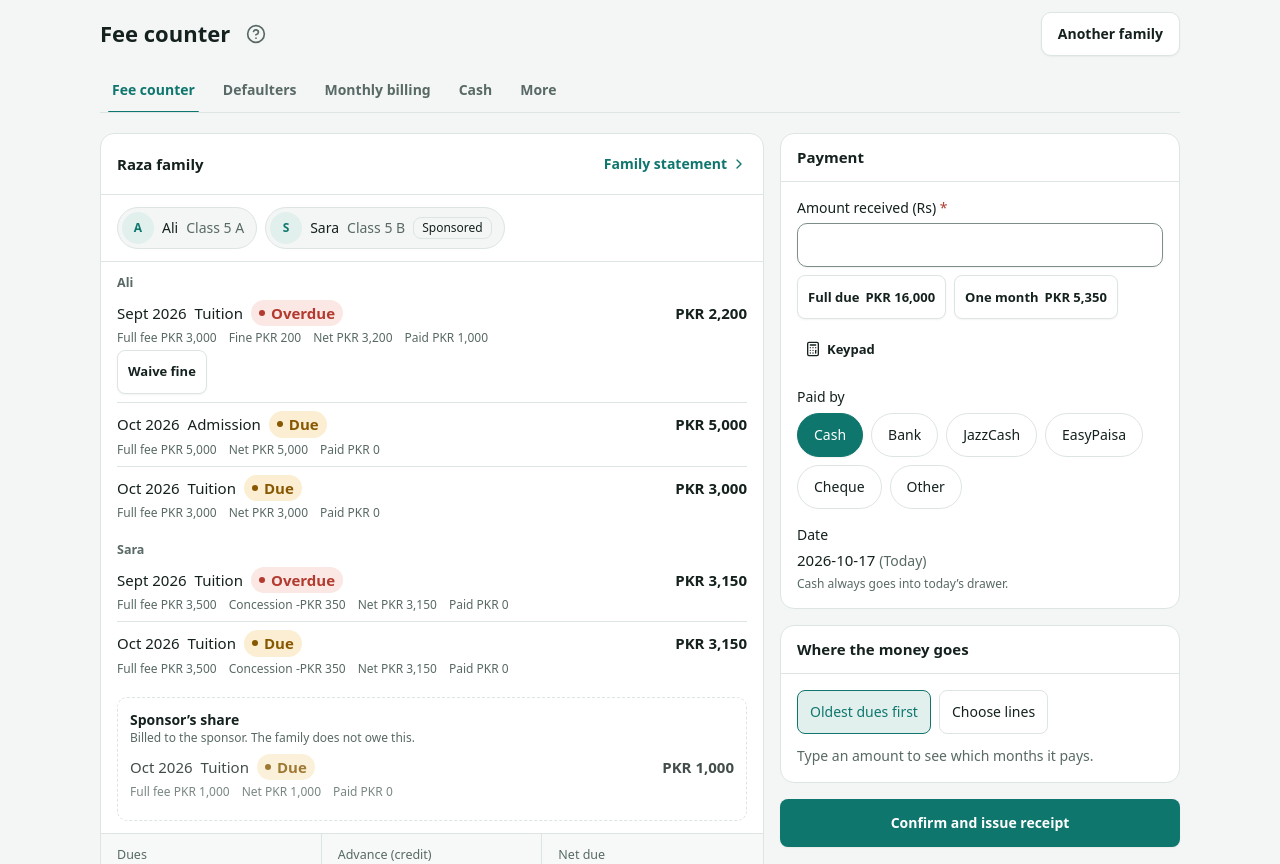
Test: "One month" quick amount › sits next to "Full due" on the counter and fills the amount
Click the button "One month PKR 5,350": {"x": 1036, "y": 297} [954,275,1118,319]
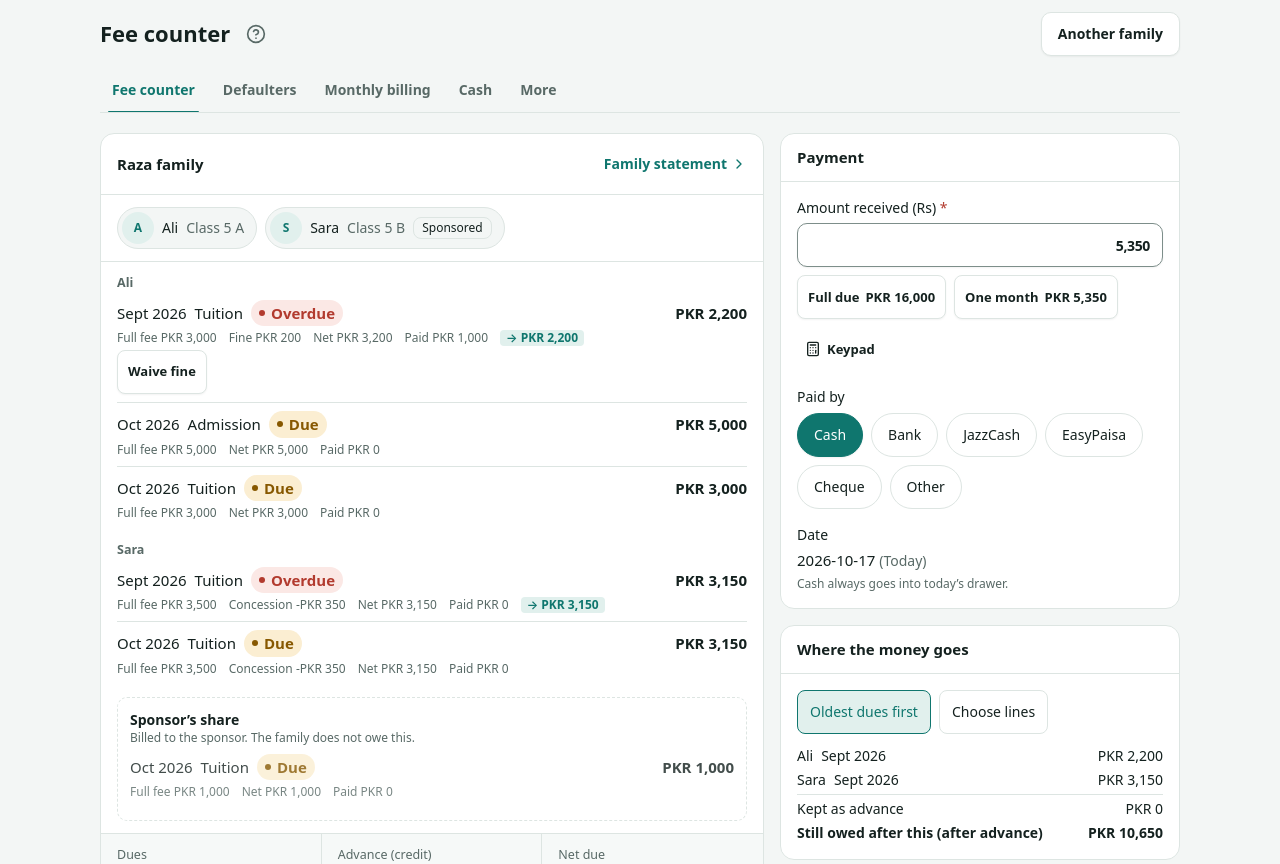
Now the field labelled "Amount received (Rs) *" holds "5,350", box [797,223,1163,267]
